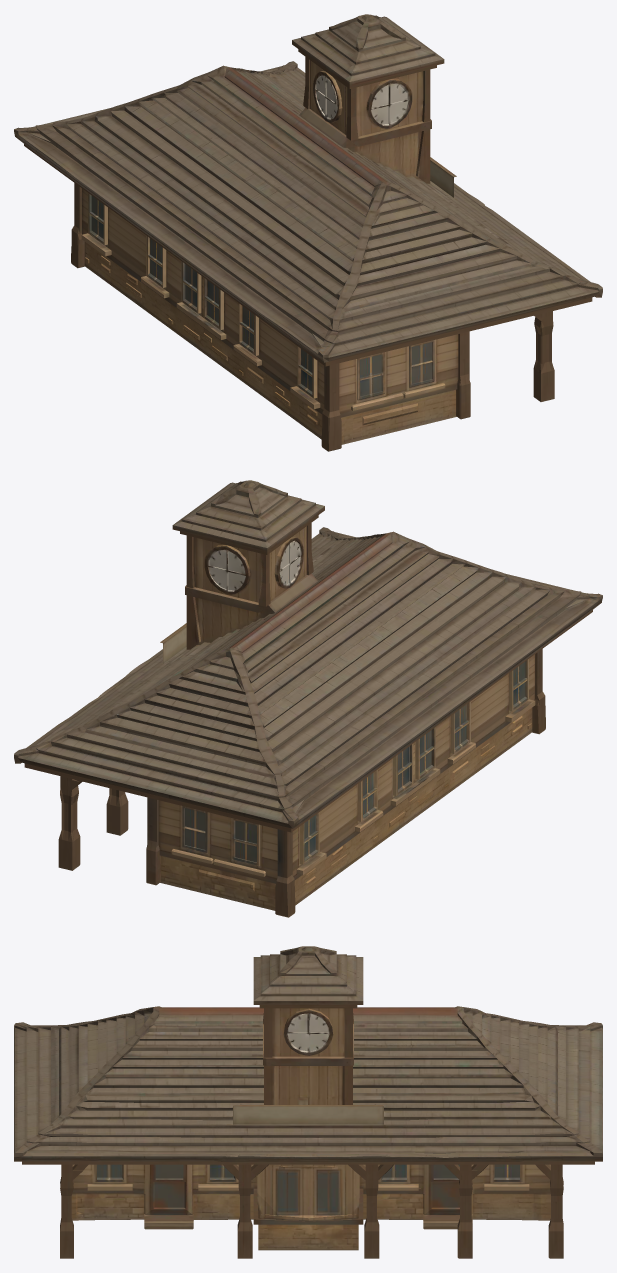
File: train_station_lvl_1.glb
3 renders of one model, top to bottom at view 1: azimuth 30°, elevation 25°; view 2: azimuth 150°, elevation 25°; view 3: azimuth 270°, elevation 25°, orthographic. The views are drawn at different scales.
Parts seen in each view (by area): view 1: tripo_node_74491c89-a220-46c3-a344-a20ce7c87aae; view 2: tripo_node_74491c89-a220-46c3-a344-a20ce7c87aae; view 3: tripo_node_74491c89-a220-46c3-a344-a20ce7c87aae.
Part boxes in pixels (x1=…): tripo_node_74491c89-a220-46c3-a344-a20ce7c87aae: x1=14, y1=14, x2=602, y2=451; tripo_node_74491c89-a220-46c3-a344-a20ce7c87aae: x1=14, y1=480, x2=602, y2=917; tripo_node_74491c89-a220-46c3-a344-a20ce7c87aae: x1=14, y1=946, x2=602, y2=1258.
Bounding box in the file's own units: 5.85 × 6 × 11.24.
1 material, 1 textured.
